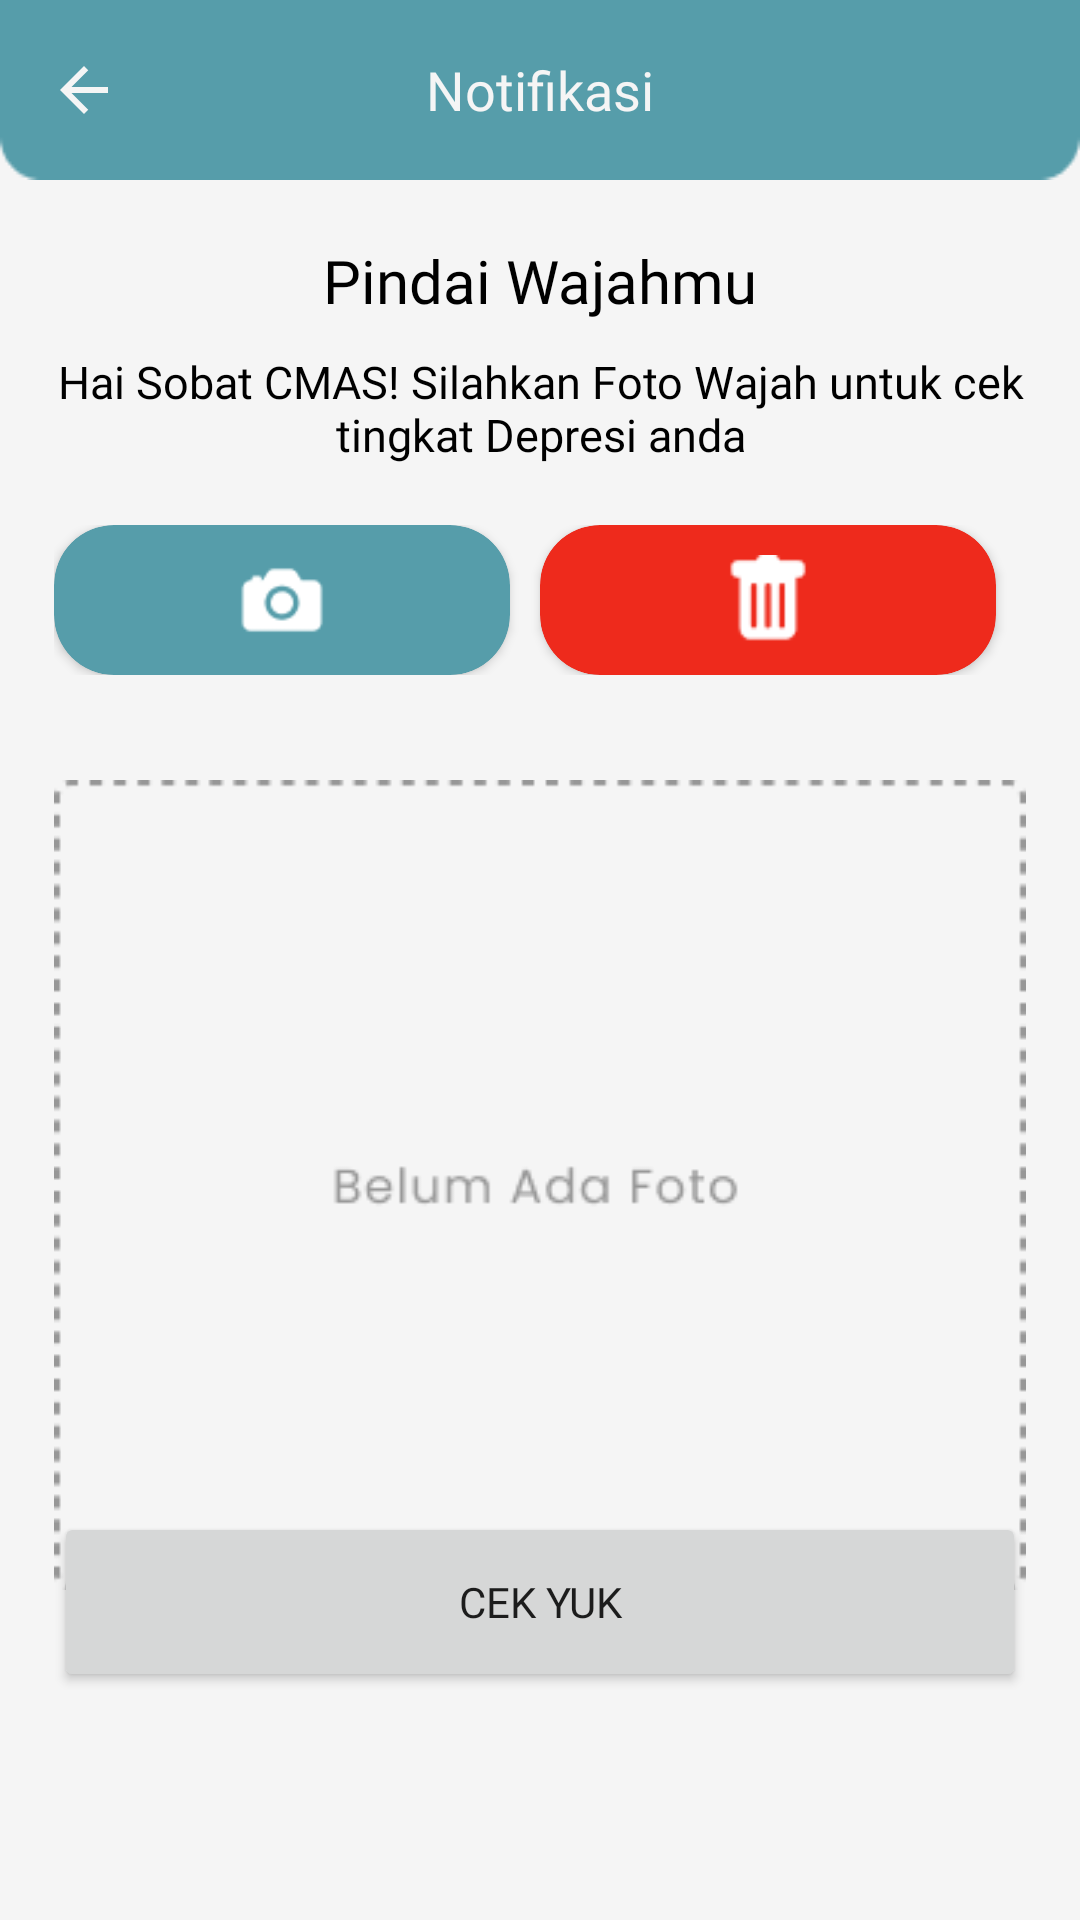

Screen size 1080px×1920px. Icon name, then its box in pixels as (x1, y1, x2, y2):
arrow back: (60, 66, 108, 114)
camera: (241, 568, 323, 632)
trash: (730, 555, 806, 641)
